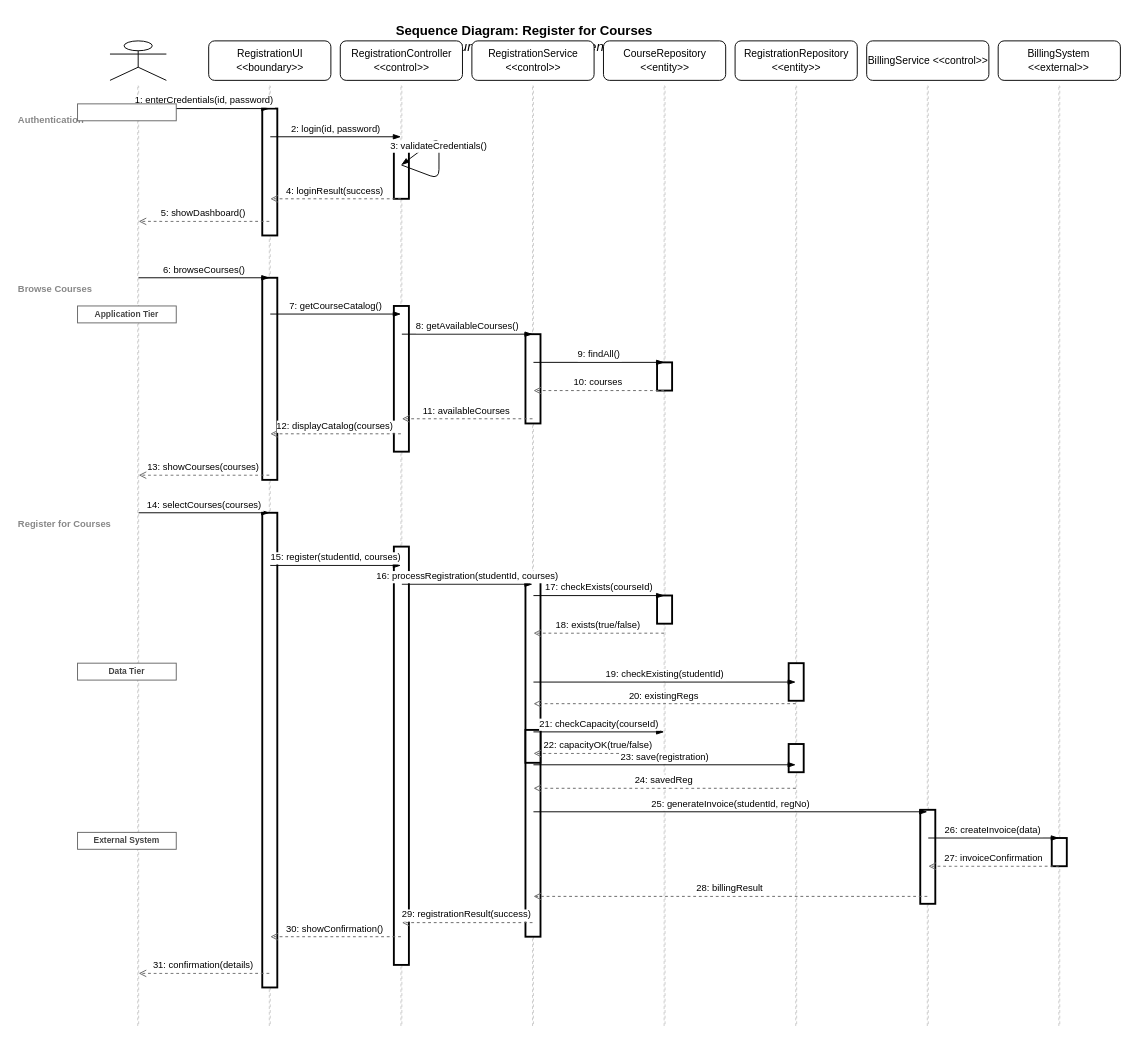
This 1136x1042 diagram has some shape labels left out. The box of each missing label's shape, as (x1, y1, x2, y2) in pixels:
Presentation Tier: (77, 103, 176, 121)
Student: (109, 40, 166, 80)
